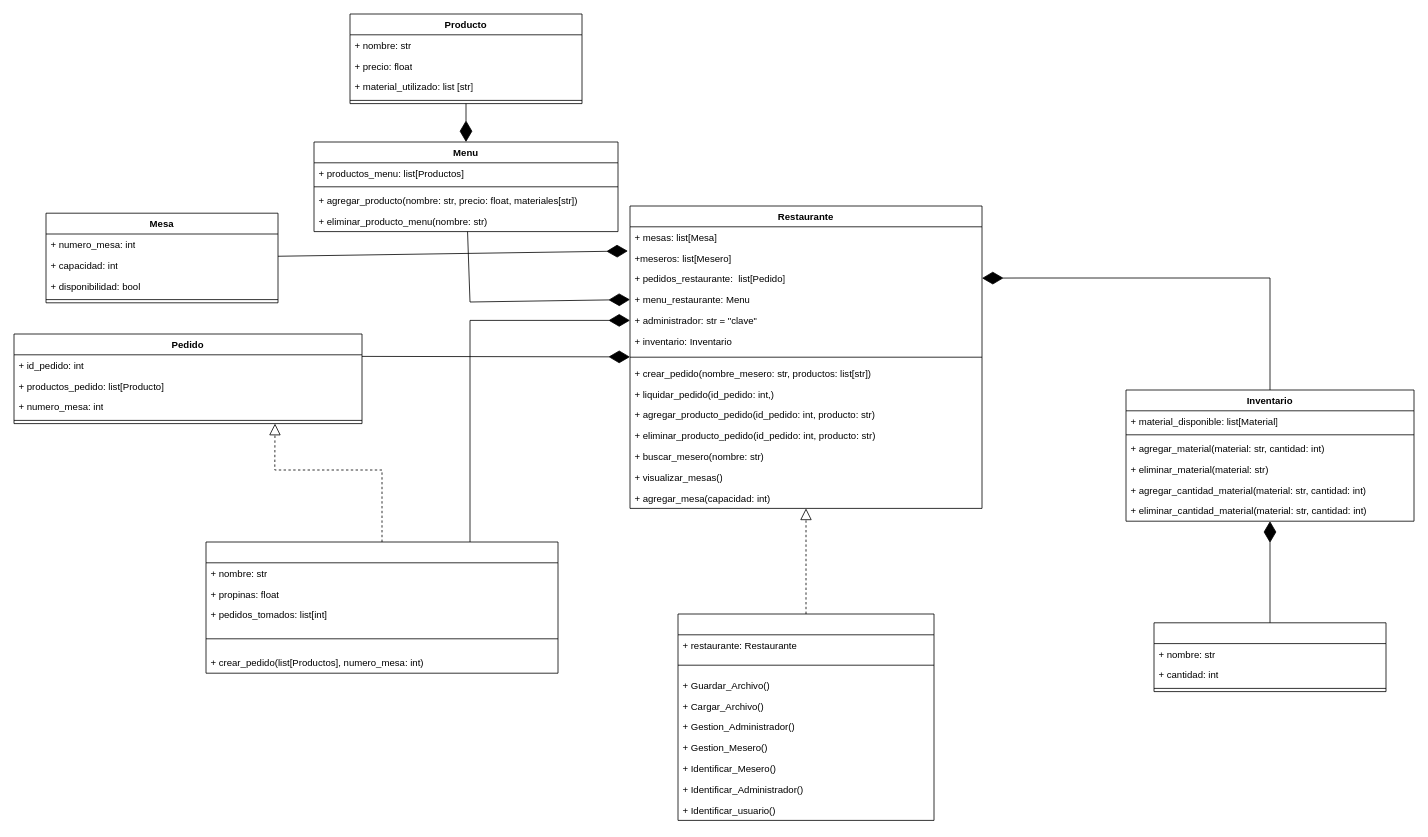
Some shapes in this 1428 by 837 pixel diagram are drawn without their labels. Each missing label, with the box of its shape:
Gestor: (677, 613, 934, 820)
Material: (1153, 622, 1386, 692)
Mesero: (205, 541, 558, 673)
